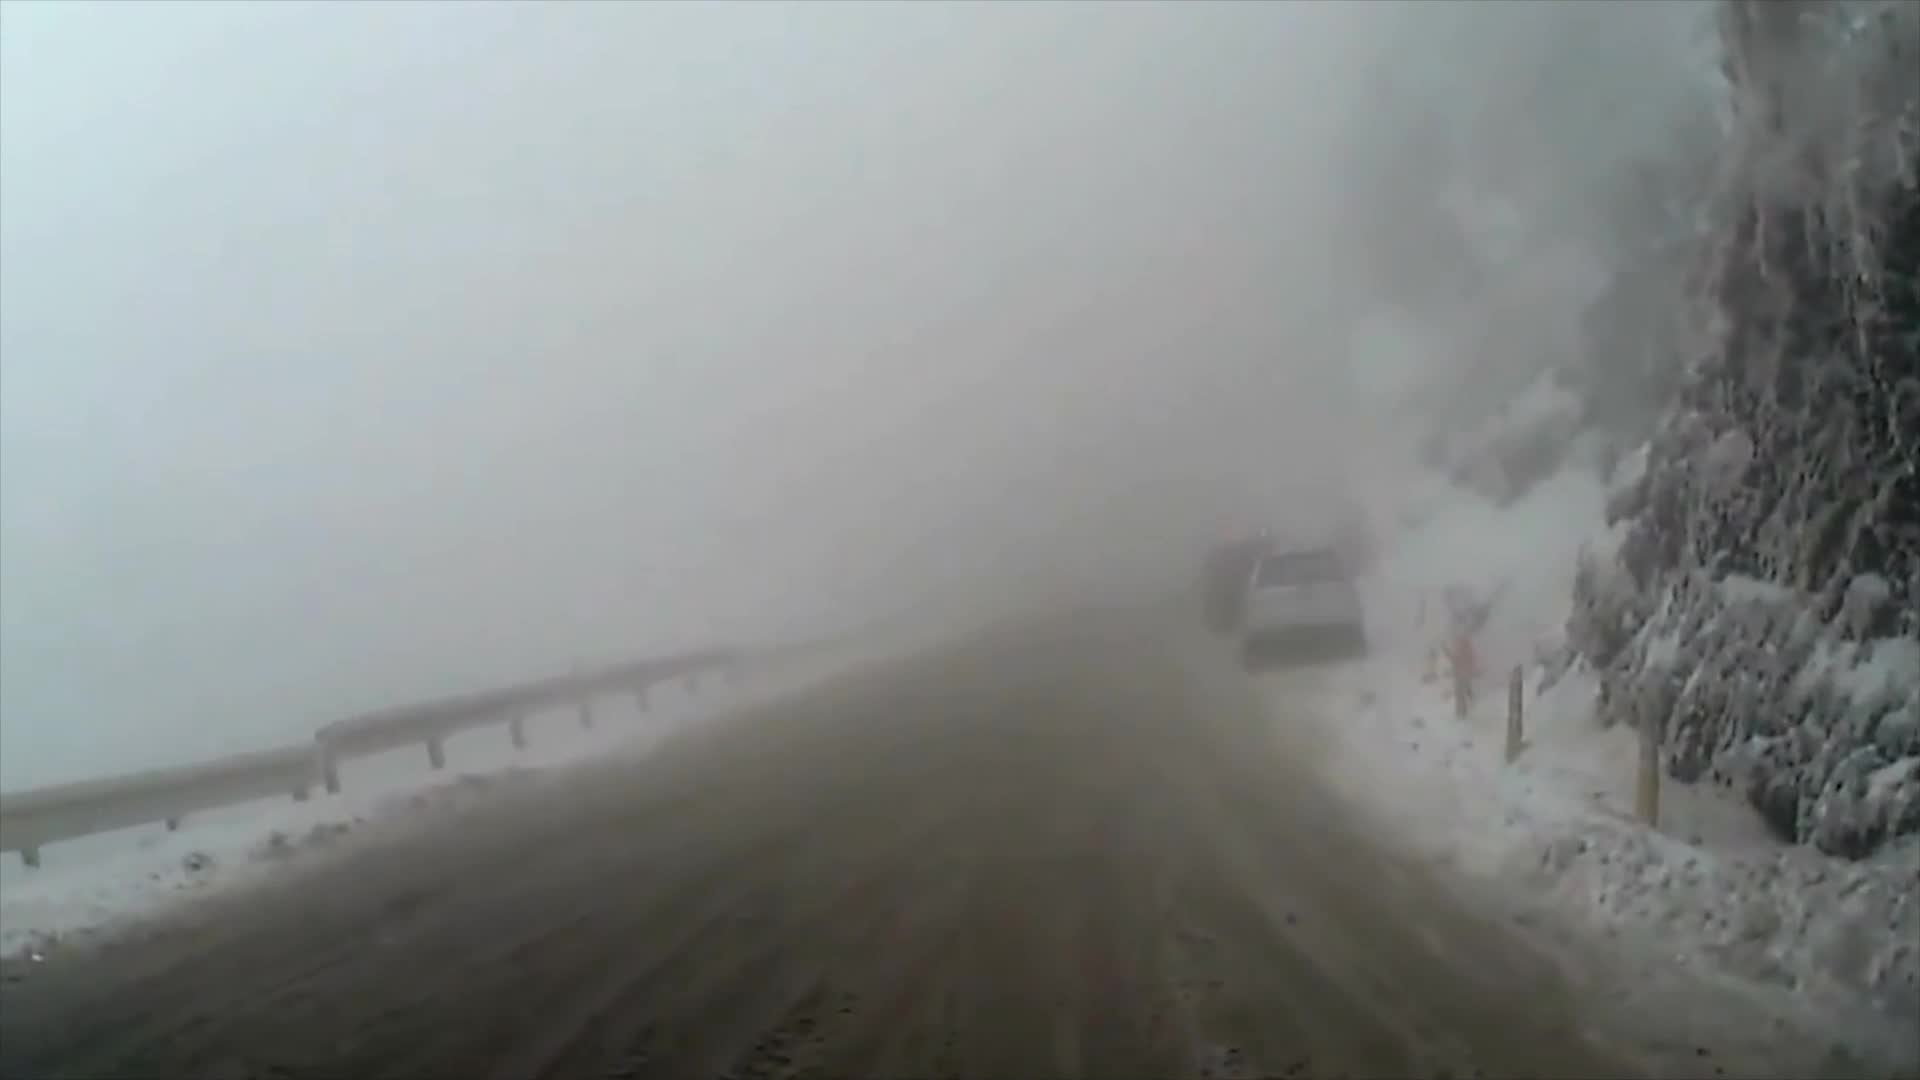vehicle: (1244, 539, 1365, 662), (1193, 541, 1305, 640)
